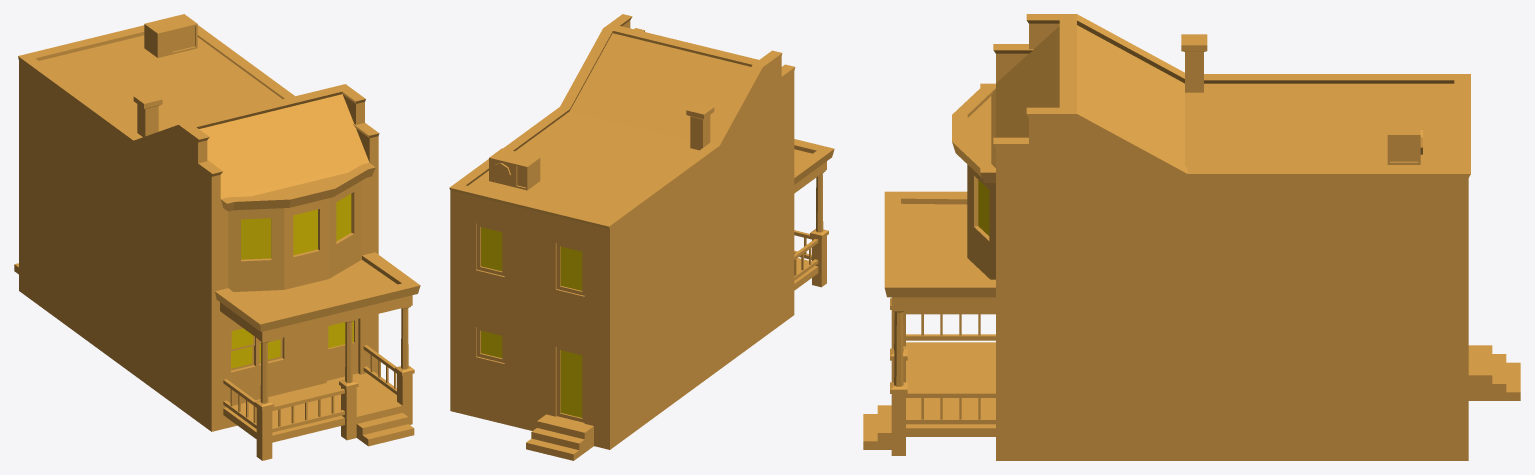
Rendered from Building_26.fbx.
3 views of the same model, side by side, from view 1: azimuth 30°, elevation 25°; view 2: azimuth 150°, elevation 25°; view 3: azimuth 270°, elevation 25° (orthographic). The views are drawn at different scales.
Visible parts, largest first — view 1: building-house-block-old; view 2: building-house-block-old; view 3: building-house-block-old.
Boxes of the visible parts, x1=… form: building-house-block-old: x1=14, y1=14, x2=420, y2=460; building-house-block-old: x1=449, y1=14, x2=834, y2=460; building-house-block-old: x1=863, y1=14, x2=1520, y2=460.
Size of the model in its own units: 2.25 by 3.64 by 6.25.
